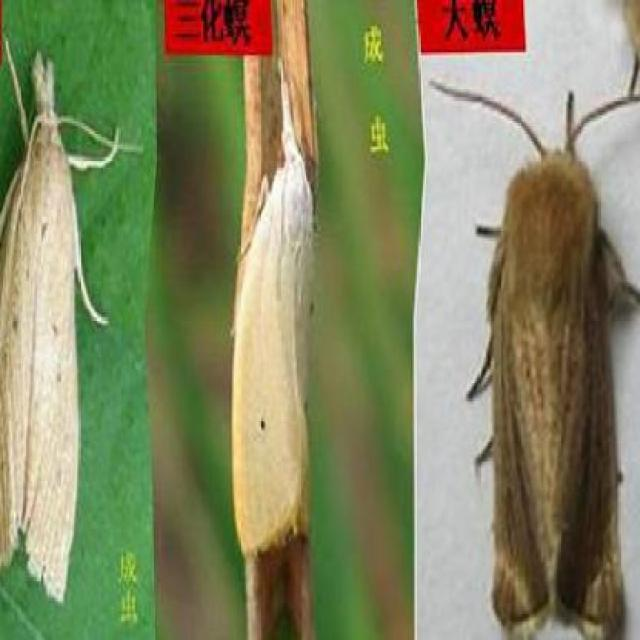stem-borer: (431, 67, 640, 640), (0, 36, 143, 607), (230, 63, 318, 563)
